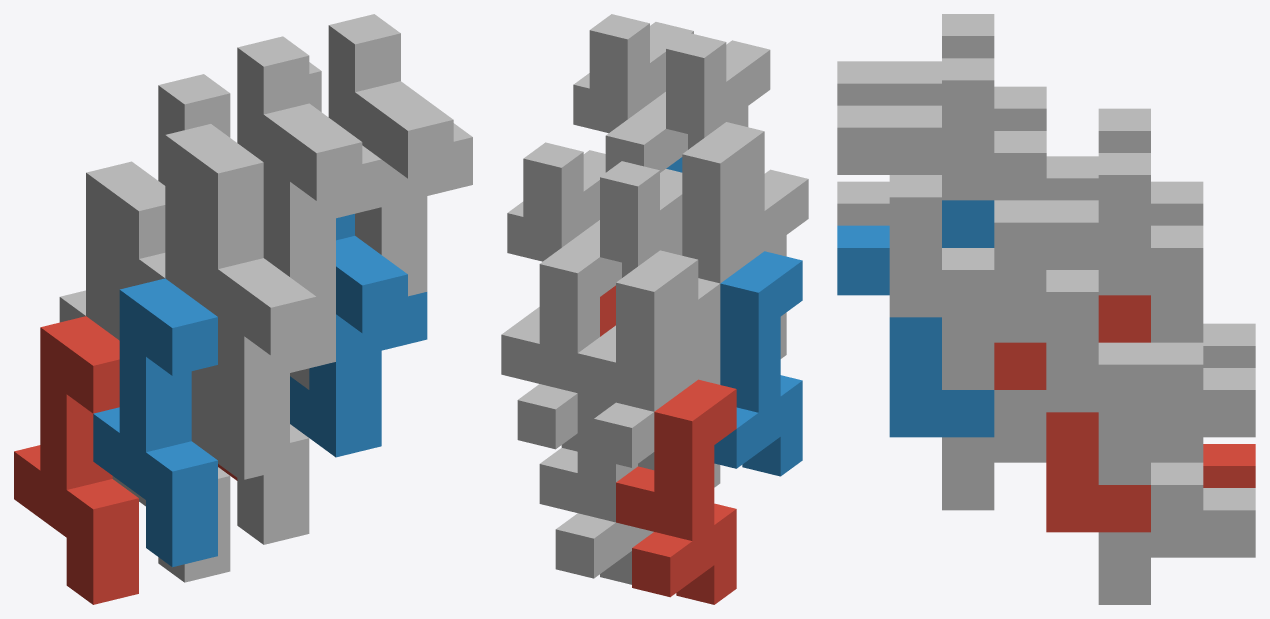
The model's file is tiling.obj.
3 renders of one model, left to right at view 1: azimuth 30°, elevation 25°; view 2: azimuth 150°, elevation 25°; view 3: azimuth 270°, elevation 25°, orthographic. The views are drawn at different scales.
Parts seen in each view (by area): view 1: copy_2_domain_2, copy_1_domain_2, copy_2_domain_4, copy_1_domain_1, copy_2_domain_8, copy_2_domain_6, copy_1_domain_4, copy_1_domain_3, copy_1_domain_6, copy_2_domain_3, copy_1_domain_5, copy_2_domain_1; view 2: copy_1_domain_1, copy_1_domain_3, copy_1_domain_2, copy_1_domain_7, copy_1_domain_4, copy_1_domain_5, copy_2_domain_4, copy_2_domain_8, copy_2_domain_7, copy_2_domain_3, copy_2_domain_2, copy_1_domain_8 (+2 smaller); view 3: copy_2_domain_8, copy_2_domain_7, copy_1_domain_7, copy_2_domain_6, copy_2_domain_5, copy_1_domain_5, copy_1_domain_8, copy_1_domain_6, copy_2_domain_4, copy_1_domain_3, copy_2_domain_3, copy_1_domain_4 (+2 smaller).
Part boxes in pixels (bbox=[...]): copy_2_domain_2: bbox=[191, 202, 335, 479]; copy_1_domain_2: bbox=[93, 278, 217, 567]; copy_2_domain_4: bbox=[237, 36, 381, 318]; copy_1_domain_1: bbox=[14, 316, 138, 604]; copy_2_domain_8: bbox=[328, 14, 472, 296]; copy_2_domain_6: bbox=[290, 214, 427, 457]; copy_1_domain_4: bbox=[139, 124, 263, 412]; copy_1_domain_3: bbox=[59, 161, 165, 334]; copy_1_domain_6: bbox=[218, 424, 309, 544]; copy_2_domain_3: bbox=[158, 74, 230, 185]; copy_1_domain_5: bbox=[139, 467, 230, 582]; copy_2_domain_1: bbox=[112, 240, 145, 502]; copy_1_domain_1: bbox=[616, 379, 736, 604]; copy_1_domain_3: bbox=[577, 250, 698, 470]; copy_1_domain_2: bbox=[714, 251, 802, 476]; copy_1_domain_7: bbox=[501, 232, 621, 451]; copy_1_domain_4: bbox=[682, 122, 764, 339]; copy_1_domain_5: bbox=[539, 393, 653, 584]; copy_2_domain_4: bbox=[650, 32, 770, 149]; copy_2_domain_8: bbox=[573, 14, 693, 133]; copy_2_domain_7: bbox=[507, 142, 605, 322]; copy_2_domain_3: bbox=[584, 161, 682, 340]; copy_2_domain_2: bbox=[742, 169, 808, 358]; copy_1_domain_8: bbox=[605, 103, 687, 172]; copy_2_domain_8: bbox=[837, 58, 994, 317]; copy_2_domain_7: bbox=[994, 153, 1150, 412]; copy_1_domain_7: bbox=[1098, 225, 1255, 484]; copy_2_domain_6: bbox=[837, 200, 994, 437]; copy_2_domain_5: bbox=[994, 295, 1150, 532]; copy_1_domain_5: bbox=[1098, 437, 1255, 604]; copy_1_domain_8: bbox=[942, 131, 1046, 389]; copy_1_domain_6: bbox=[942, 390, 1046, 510]; copy_2_domain_4: bbox=[837, 14, 994, 105]; copy_1_domain_3: bbox=[1151, 181, 1255, 367]; copy_2_domain_3: bbox=[1046, 108, 1150, 200]; copy_1_domain_4: bbox=[994, 86, 1046, 130].
Size of the model in its own units: 6 by 12 by 8.
